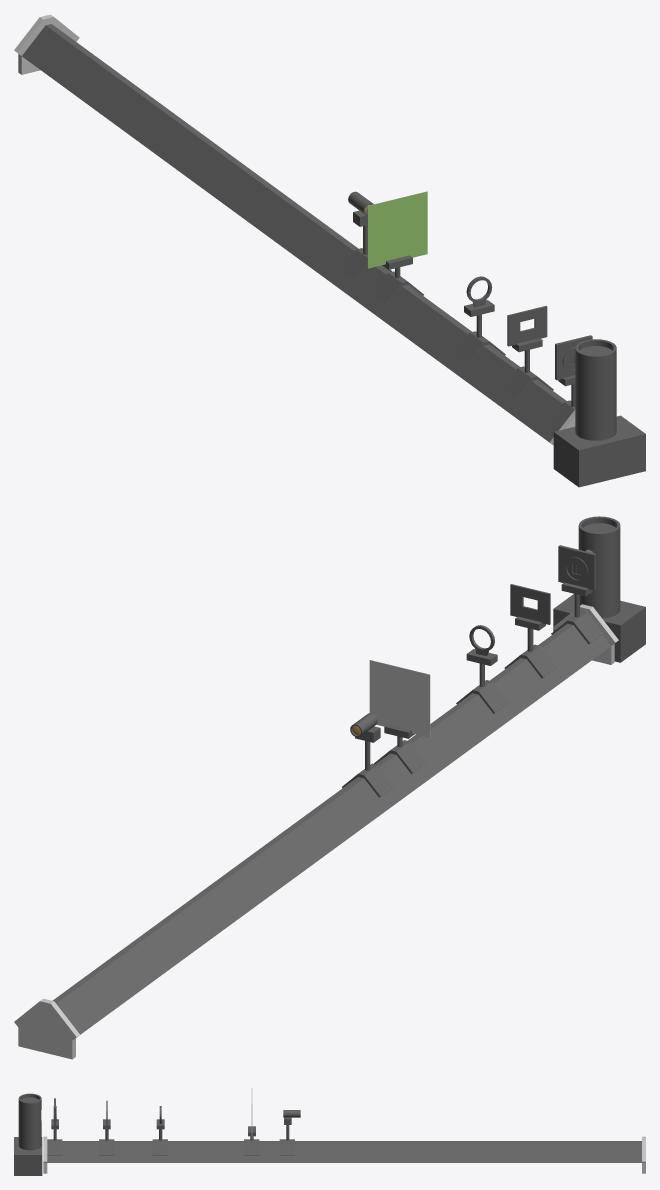
The model's file is rail.fbx.
3 views of the same model, one above another, from view 1: azimuth 30°, elevation 25°; view 2: azimuth 150°, elevation 25°; view 3: azimuth 270°, elevation 25° (orthographic). The views are drawn at different scales.
Parts seen in each view (by area): view 1: rail, Cube_2, Light, Cube, B, base_L, base_B, base_P, base_E; view 2: rail, Cube, Light, Cube_2, B, base_L, base_B, base_E, base_K, base_P, K_b; view 3: rail, Light, Cube_2, base_L, base_B, base_E, base_K, base_P.
Part boxes in pixels (x1,y1,x2,y2): rail: (14,14,575,445); Cube_2: (553,415,645,487); Light: (575,339,616,440); Cube: (367,191,427,268); B: (507,306,547,346); base_L: (453,300,505,364); base_B: (501,338,553,399); base_P: (372,255,423,304); base_E: (339,210,391,281); rail: (14,604,618,1059); Cube: (369,660,430,737); Light: (578,516,620,618); Cube_2: (553,594,645,662); B: (510,584,550,624); base_L: (456,649,508,713); base_B: (504,616,556,678); base_E: (342,726,394,797); base_K: (551,582,603,644); base_P: (374,724,426,773); K_b: (558,545,595,590); rail: (43,1136,645,1173); Light: (18,1093,41,1150); Cube_2: (14,1137,42,1175); base_L: (152,1119,167,1155); base_B: (99,1119,114,1155); base_E: (279,1117,294,1155); base_K: (47,1119,62,1155); base_P: (244,1126,259,1155).
Size of the model in its own units: 11.2 by 20 by 164.
